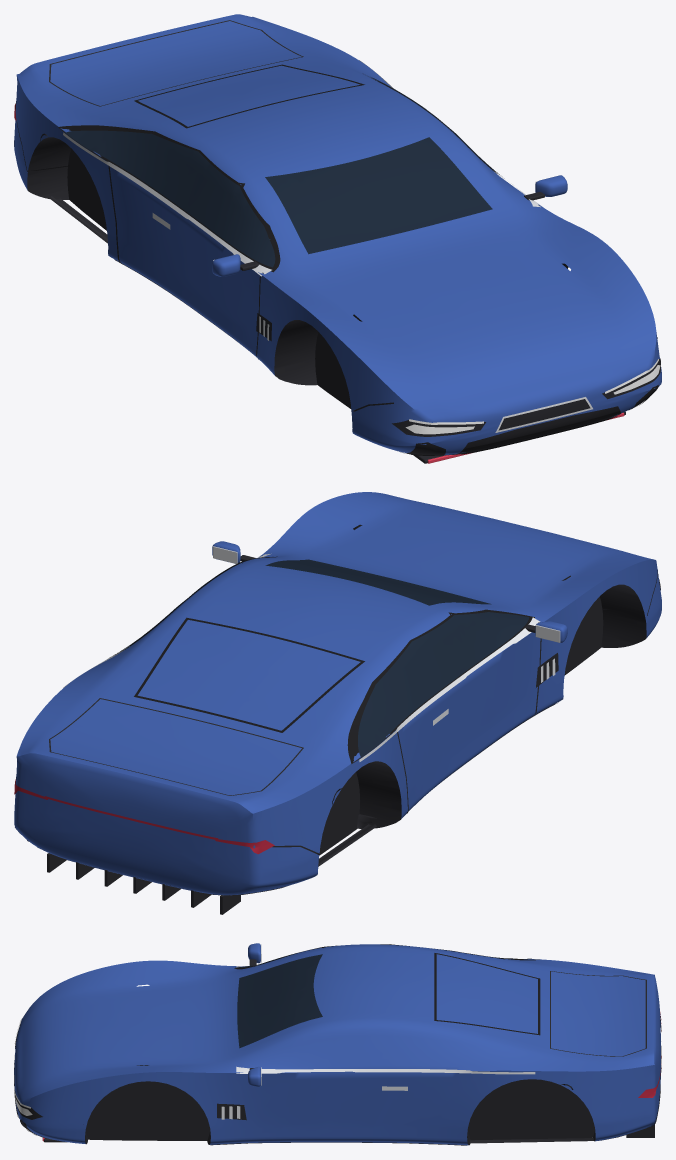
File: coupe.glb
The picture shows the model from 3 angles, top to bottom: view 1: azimuth 30°, elevation 25°; view 2: azimuth 150°, elevation 25°; view 3: azimuth 270°, elevation 25°; orthographic projection. The views are drawn at different scales.
Visible parts, largest first — view 1: body; view 2: body; view 3: body.
Boxes of the visible parts, bbox=[...] form: body: bbox=[14, 14, 661, 463]; body: bbox=[14, 492, 661, 914]; body: bbox=[14, 943, 661, 1145].
Size of the model in its own units: 2.44 by 1.06 by 4.98.
